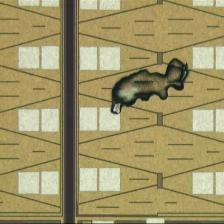PARTICLE: (109, 57, 192, 117)
